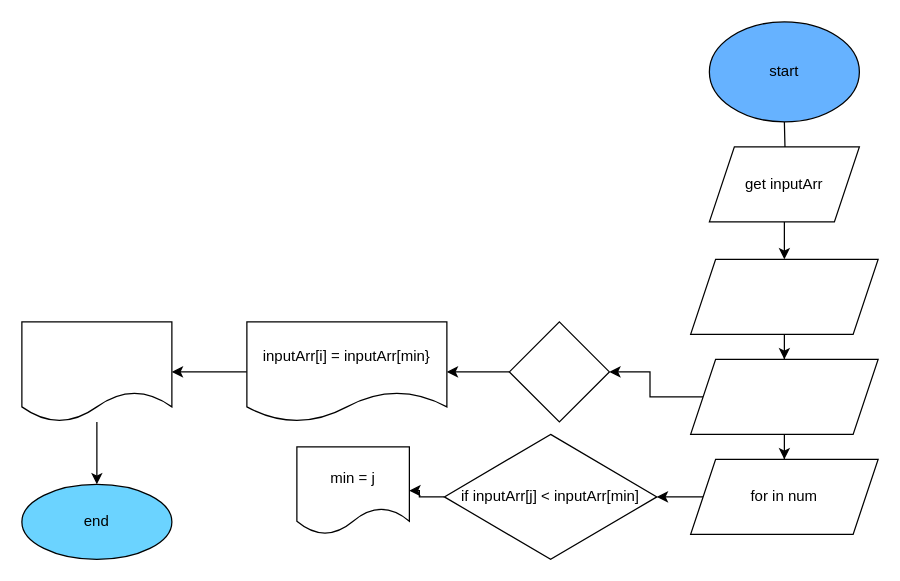
Some shapes in this 900 by 581 pixel diagram are drawn without their labels. Here are the shapes that lost their labels. From the top down, the centre of each, then its label:
the point at 783,296: let n = inputArr.lenght
the point at 96,371: return inputArr
the point at 558,371: min!= i
the point at 783,396: for in arr
